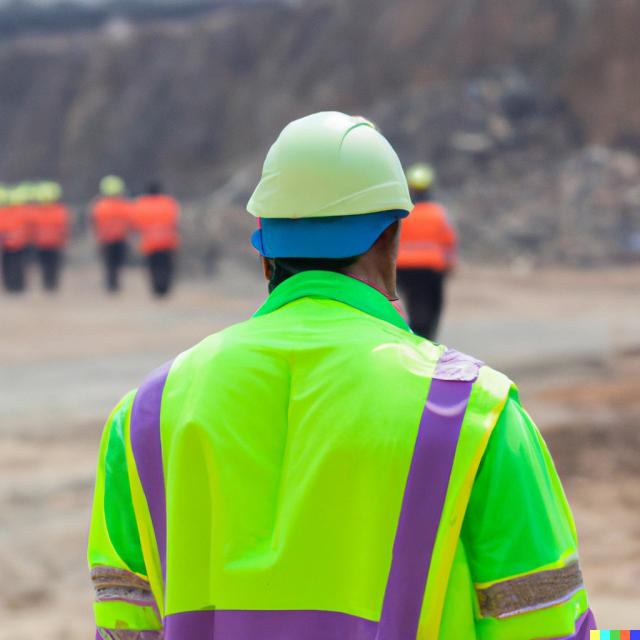Reflective-Jacket: (76, 280, 539, 640)
Safety-Helmet: (242, 105, 417, 241)
